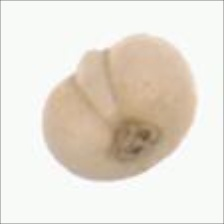L5: (68, 47, 120, 126), (108, 118, 169, 168)
L6: (39, 32, 200, 184)
